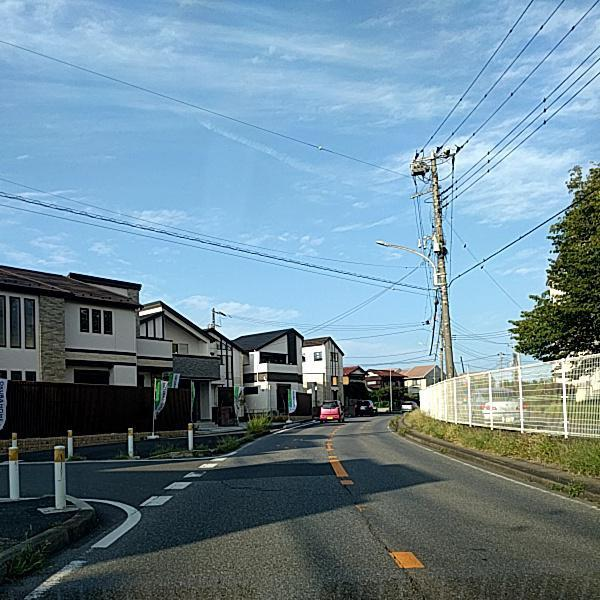D10: (217, 477, 282, 495)
D44: (32, 541, 135, 589)
